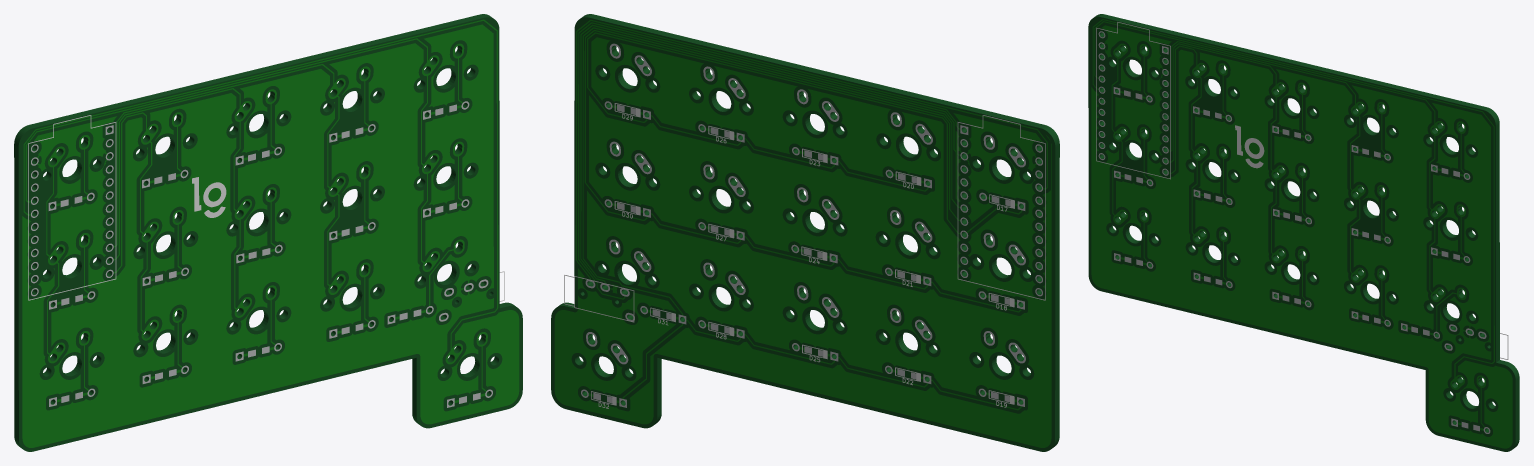
Rendered from left side.fbx.
The picture shows the model from 3 angles, left to right: view 1: azimuth 30°, elevation 25°; view 2: azimuth 150°, elevation 25°; view 3: azimuth 330°, elevation 25°; orthographic projection. The views are drawn at different scales.
Parts seen in each view (by area): view 1: TXFM_3, TXFM_2, TXFM_4, TXFM_7; view 2: TXFM_5, TXFM_2, TXFM_6, TXFM_8; view 3: TXFM_3, TXFM_2, TXFM_4, TXFM_7.
Boxes of the visible parts, x1,y1,x2,y2 form: TXFM_3: (22,19,519,447); TXFM_2: (14,14,522,451); TXFM_4: (31,101,492,407); TXFM_7: (28,115,226,300); TXFM_5: (554,19,1051,447); TXFM_2: (551,14,1059,451); TXFM_6: (581,43,1042,407); TXFM_8: (564,103,1045,408); TXFM_3: (1091,19,1512,448); TXFM_2: (1088,14,1519,451); TXFM_4: (1098,31,1490,433); TXFM_7: (1096,22,1264,179).
Bounding box in the file's own units: 102562 × 77218 × 1700.
